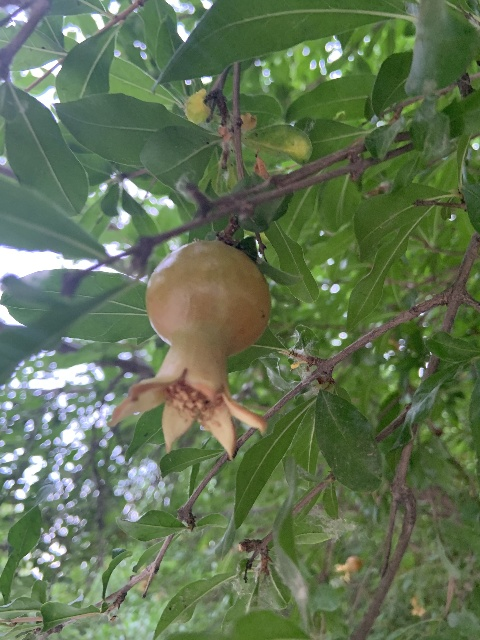early-fruit: (108, 239, 271, 463), (334, 555, 363, 582)
